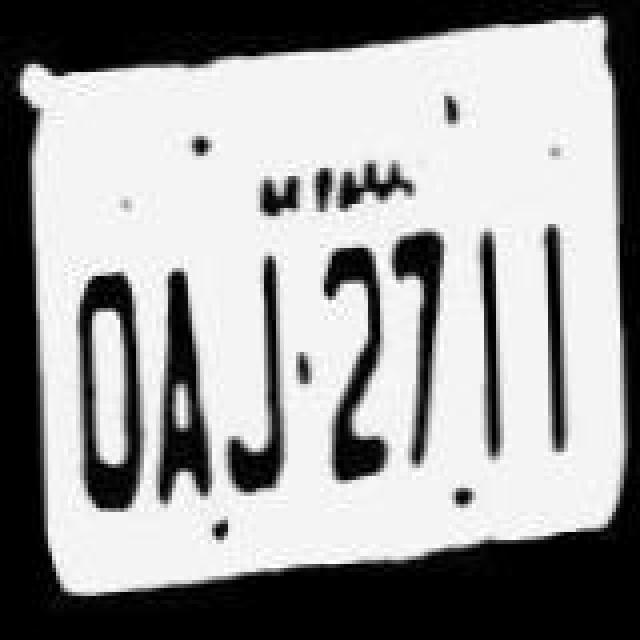1: (526, 222, 586, 474), (460, 224, 516, 476)
2: (308, 238, 388, 490)
7: (382, 222, 458, 486)
A: (142, 256, 214, 508)
J: (216, 250, 304, 506)
O: (62, 254, 150, 522)
